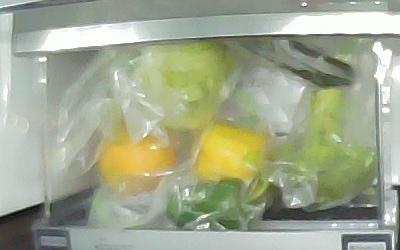broccoli_vinyl: (272, 87, 375, 201)
cucumber_vinyl: (236, 37, 354, 89)
grapefruit_vinyl: (96, 126, 176, 196)
lettuce_vinyl: (126, 40, 233, 131)
paprika_vinyl: (166, 178, 269, 230), (190, 123, 270, 180)
